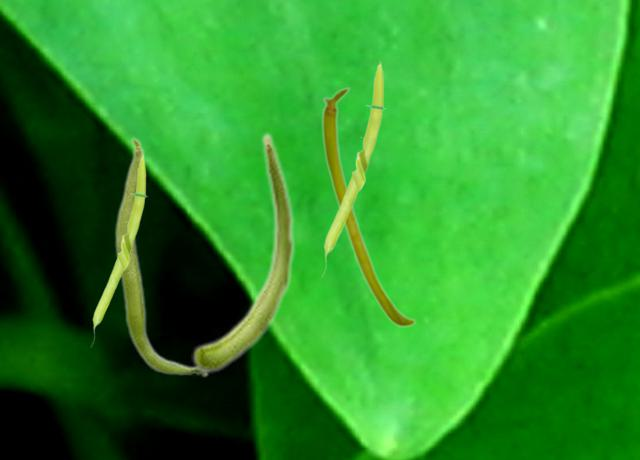french_bean: (191, 131, 295, 372), (113, 136, 209, 377), (321, 86, 415, 327), (321, 59, 385, 277), (90, 152, 147, 347)
